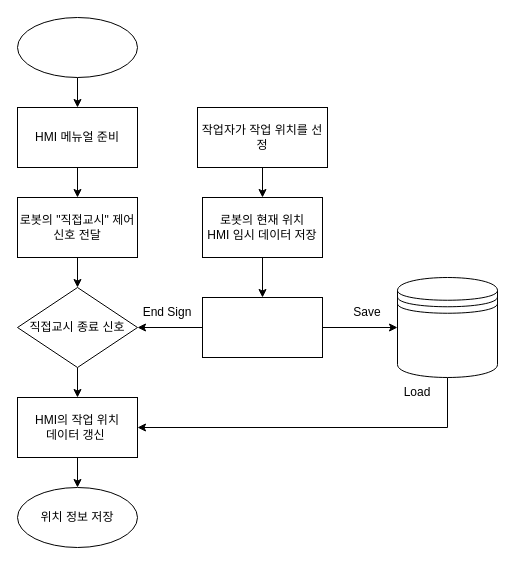
This 515x565 diagram has some shape labels left out. Here are the shapes that lost their labels. From the top down, the centre of each, then its label:
pixel 77 47: 수동 동작 준비
pixel 262 327: HMI 임시 데이터를 PLC 데이터베이스에 저장
pixel 447 327: Store to working position in PLC K-Memory
